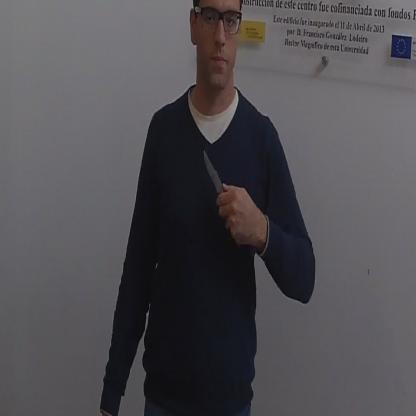knife: (200, 142, 236, 224)
